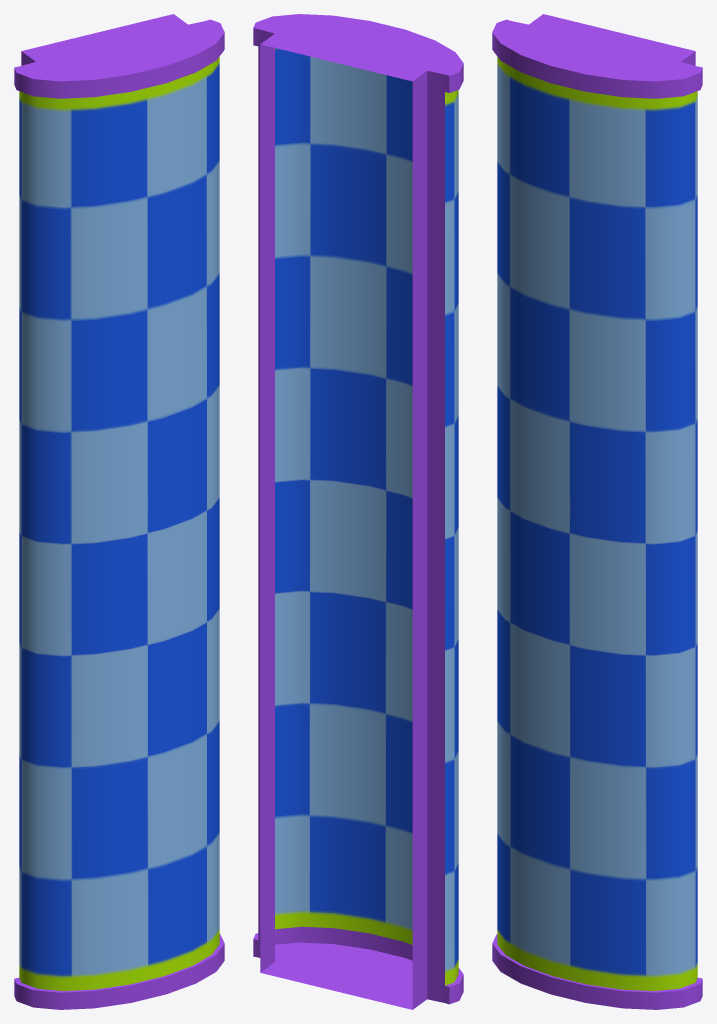
File: LightWall02_1.FBX
3 views of the same model, side by side, from view 1: azimuth 30°, elevation 25°; view 2: azimuth 150°, elevation 25°; view 3: azimuth 330°, elevation 25° (orthographic).
Visible parts, largest first — view 1: LightWall02_1; view 2: LightWall02_1; view 3: LightWall02_1.
Part boxes in pixels (x1=…): LightWall02_1: x1=14, y1=14, x2=224, y2=1009; LightWall02_1: x1=253, y1=14, x2=463, y2=1009; LightWall02_1: x1=492, y1=14, x2=702, y2=1009.
Size of the model in its own units: 12.58 by 54.76 by 5.49.
